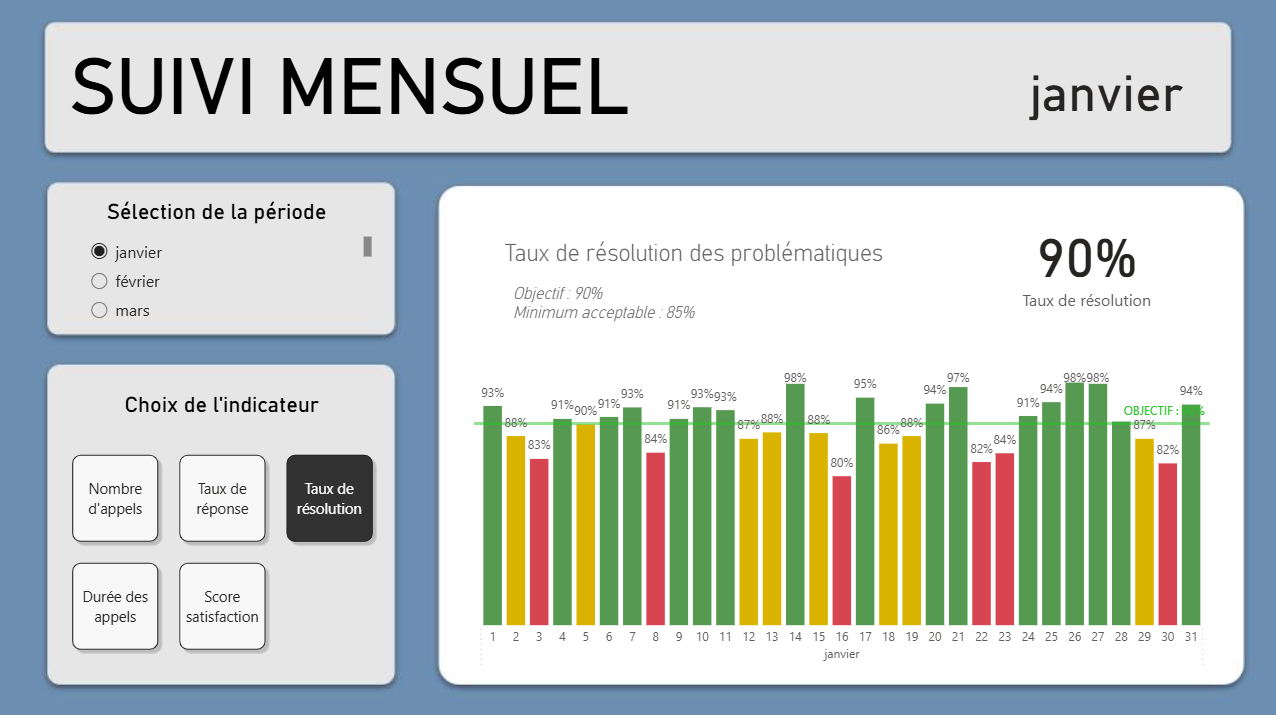

What the dashboard file says about the page in this screenshot:
{"tool":"powerbi","page":{"name":"SUIVI MENSUEL","canvas":[1280,720],"ordinal":1},"visuals":[{"type":"textbox","box":[84.3,195.7,270,38.6],"z":0},{"type":"textbox","box":[503.5,233.5,314.3,47.1],"z":0,"group":"g1"},{"type":"card","fields":{"Values":["call center data.Nombre_Appels_Moyen_Par_Jour"]},"box":[990.6,201.7,234.3,122.9],"z":1000,"group":"g1"},{"type":"slicer","fields":{"Values":["call center data.Date.Variation.Hiérarchie de dates.Mois"]},"box":[80,234.3,298.6,91.4],"z":1000},{"type":"columnChart","fields":{"Category":["call center data.Date.Variation.Hiérarchie de dates.Mois","call center data.Date.Variation.Hiérarchie de dates.Jour"],"Y":["CountNonNull(call center data.Call Id)"]},"box":[471.8,319.3,748.6,351.4],"z":2000,"group":"g1"},{"type":"group","id":"g1","title":"Nb appels","box":[471.8,201.7,753.1,469.1],"z":6000},{"type":"bookmarkNavigator","box":[68.6,451.4,312.9,207.1],"z":7000},{"type":"textbox","box":[65.7,37.1,742.9,105.7],"z":8000},{"type":"card","fields":{"Values":["Min(call center data.Date.Variation.Hiérarchie de dates.Mois)"]},"box":[965.7,52.9,284.3,74.3],"z":9000},{"type":"textbox","box":[88.6,388.6,270,38.6],"z":10000}]}

Visuals, with their boxes in screenshot pixels (x1, y1, x2, y2), scaled from the page's 1280x720 canvas onto the 1276x715 screenshot:
textbox: locate(84, 194, 353, 233)
textbox: locate(502, 232, 815, 279)
card - call center data.Nombre_Appels_Moyen_Par_Jour: locate(988, 200, 1221, 322)
slicer - call center data.Date.Variation.Hiérarchie de dates.Mois: locate(80, 233, 377, 323)
columnChart - call center data.Date.Variation.Hiérarchie de dates.Mois x call center data.Date.Variation.Hiérarchie de dates.Jour: locate(470, 317, 1217, 666)
"Nb appels" group: locate(470, 200, 1221, 666)
bookmarkNavigator: locate(68, 448, 380, 654)
textbox: locate(65, 37, 806, 142)
card - Min(call center data.Date.Variation.Hiérarchie de dates.Mois): locate(963, 53, 1246, 126)
textbox: locate(88, 386, 357, 424)
